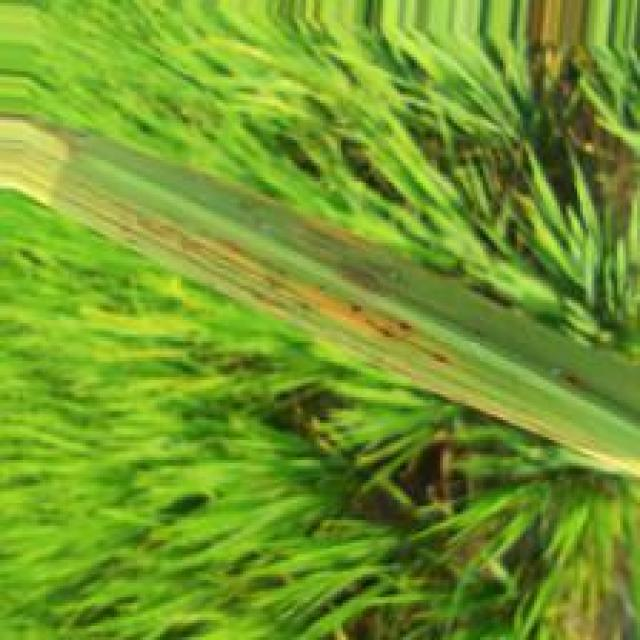Narrow_Brown_Leaf_Spot: (162, 235, 456, 375)
